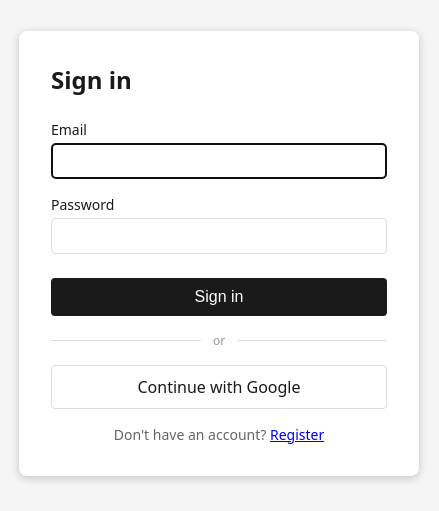
Scenario: LoginPage › shows invalid credentials error on 401
Type "a@b.com" into the field labelled "Email" at (219, 160), box [51,142,387,178]
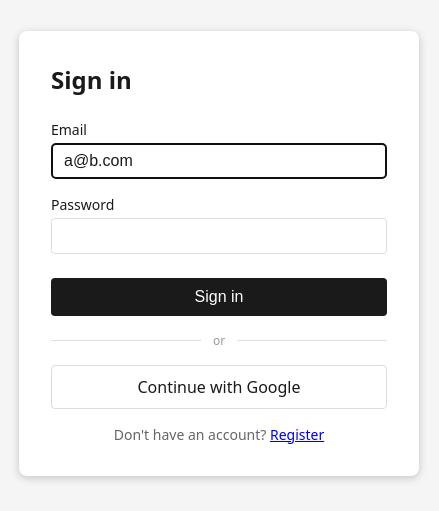
Type "wrong" into the password field labelled "Password" at (219, 236), box [51,218,387,254]
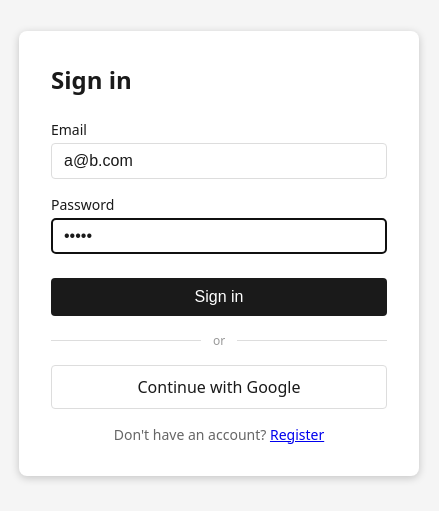
Click the button "Sign in" at (219, 296), box [51,278,387,316]
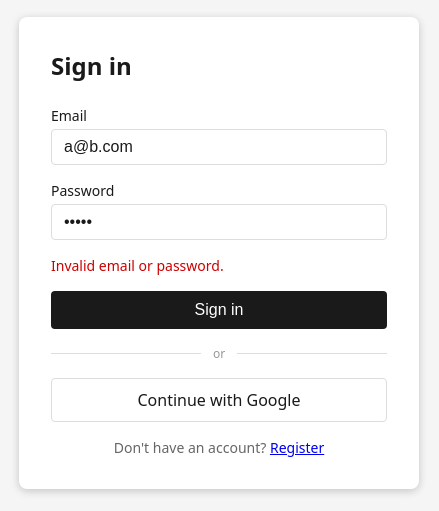
Now the text "Invalid email or password." is shown, box [51,256,224,275]
